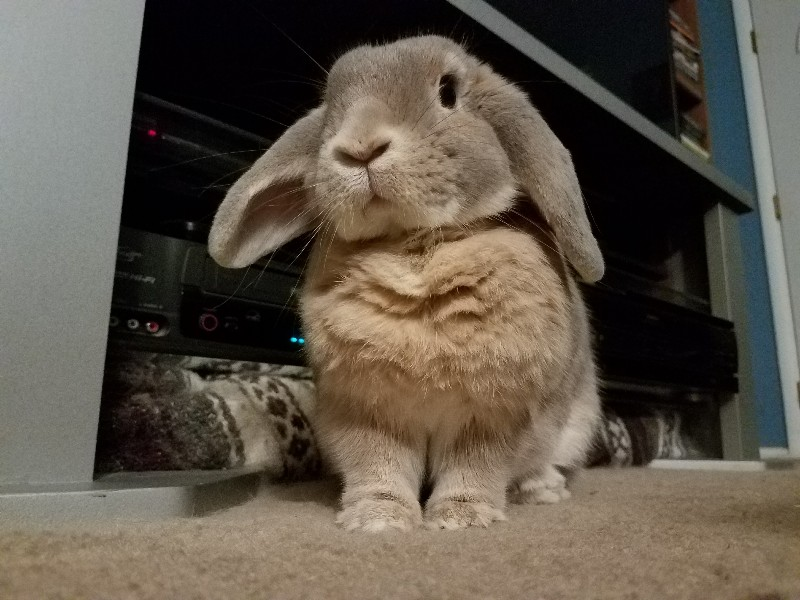bunny: (175, 25, 635, 551)
